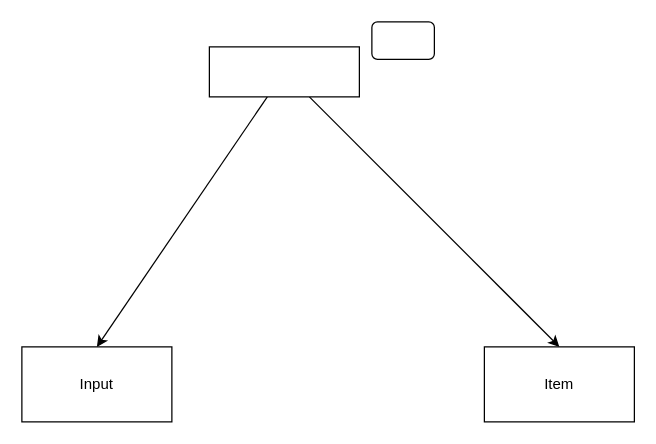
This 656x444 diagram has some shape labels left out. Here are the shapes that lost their labels. From the top down, the centre of each, then its label:
At point 402,40: "Text State".
At point 283,71: "App".
